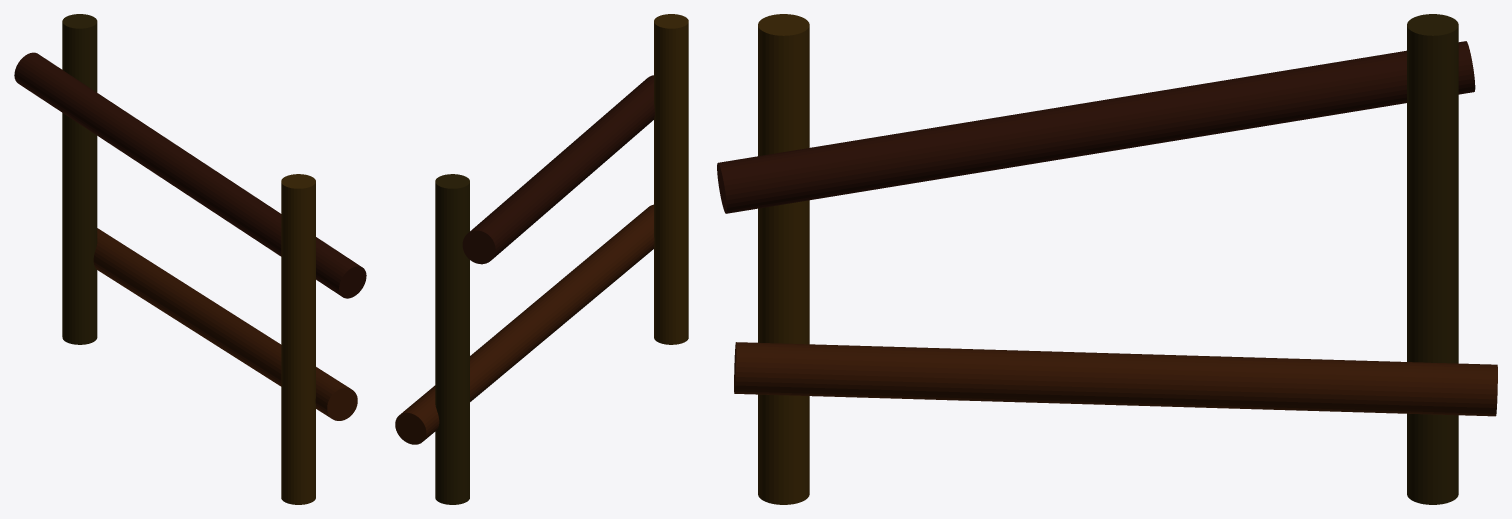
Rendered from fence.fbx.
3 views of the same model, side by side, from view 1: azimuth 30°, elevation 25°; view 2: azimuth 150°, elevation 25°; view 3: azimuth 270°, elevation 25° (orthographic). The views are drawn at different scales.
Visible parts, largest first — view 1: 円柱.002, 円柱, 円柱.001, 円柱.003; view 2: 円柱, 円柱.001, 円柱.003, 円柱.002; view 3: 円柱.003, 円柱.002, 円柱.001, 円柱.
Boxes of the visible parts, <box> form: 円柱.002: <box>14,52,366,298</box>; 円柱: <box>281,174,315,504</box>; 円柱.001: <box>62,14,97,344</box>; 円柱.003: <box>93,228,357,420</box>; 円柱: <box>654,14,688,344</box>; 円柱.001: <box>435,174,469,504</box>; 円柱.003: <box>395,204,654,444</box>; 円柱.002: <box>462,75,654,264</box>; 円柱.003: <box>734,342,1497,416</box>; 円柱.002: <box>717,41,1475,213</box>; 円柱.001: <box>1407,14,1458,504</box>; 円柱: <box>758,14,809,504</box>.
Bounding box in the file's own units: 204 × 600 × 905.
